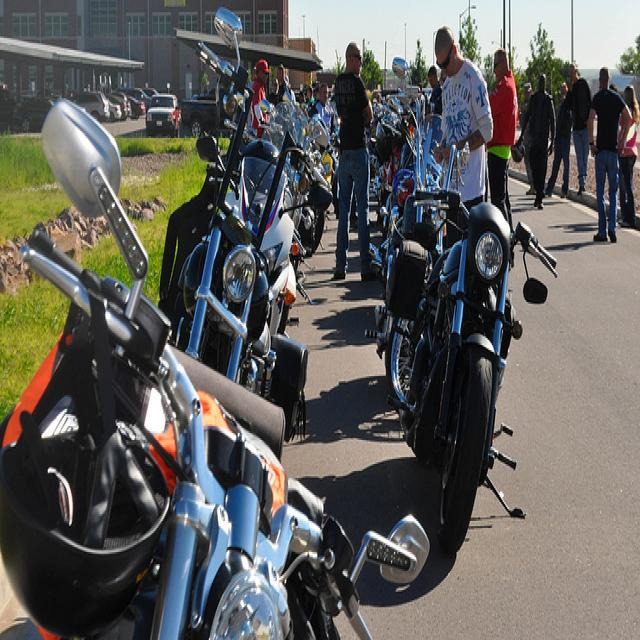motor: (14, 101, 434, 634), (158, 4, 332, 443), (415, 207, 548, 548), (370, 115, 468, 399), (198, 133, 276, 233), (370, 98, 419, 227)
